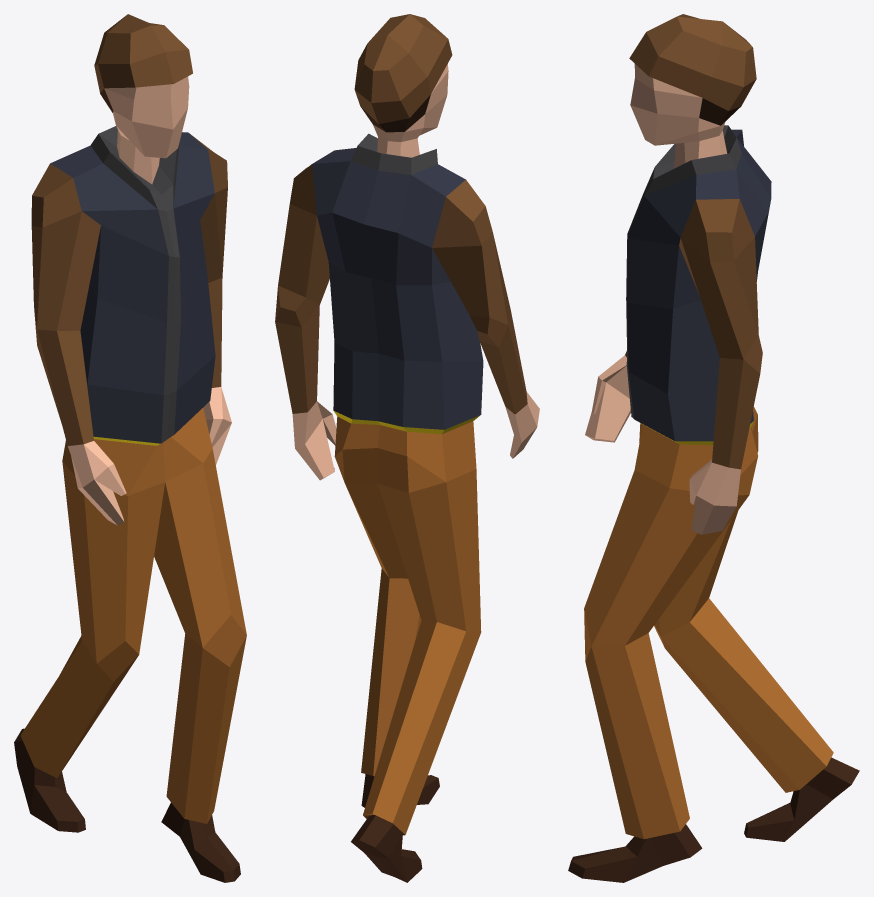
Rendered from AutumnManB.003.glb.
3 views of the same model, side by side, from view 1: azimuth 30°, elevation 25°; view 2: azimuth 150°, elevation 25°; view 3: azimuth 270°, elevation 25° (orthographic). The views are drawn at different scales.
Parts seen in each view (by area): view 1: AutumnManB.003; view 2: AutumnManB.003; view 3: AutumnManB.003.
Boxes of the visible parts, x1,y1,x2,y2 form: AutumnManB.003: (14,14,246,882); AutumnManB.003: (275,14,539,882); AutumnManB.003: (568,14,859,882).
Bounding box in the file's own units: 0.4617 × 1.76 × 0.5519.
Materials: 1 (1 with a texture image).
